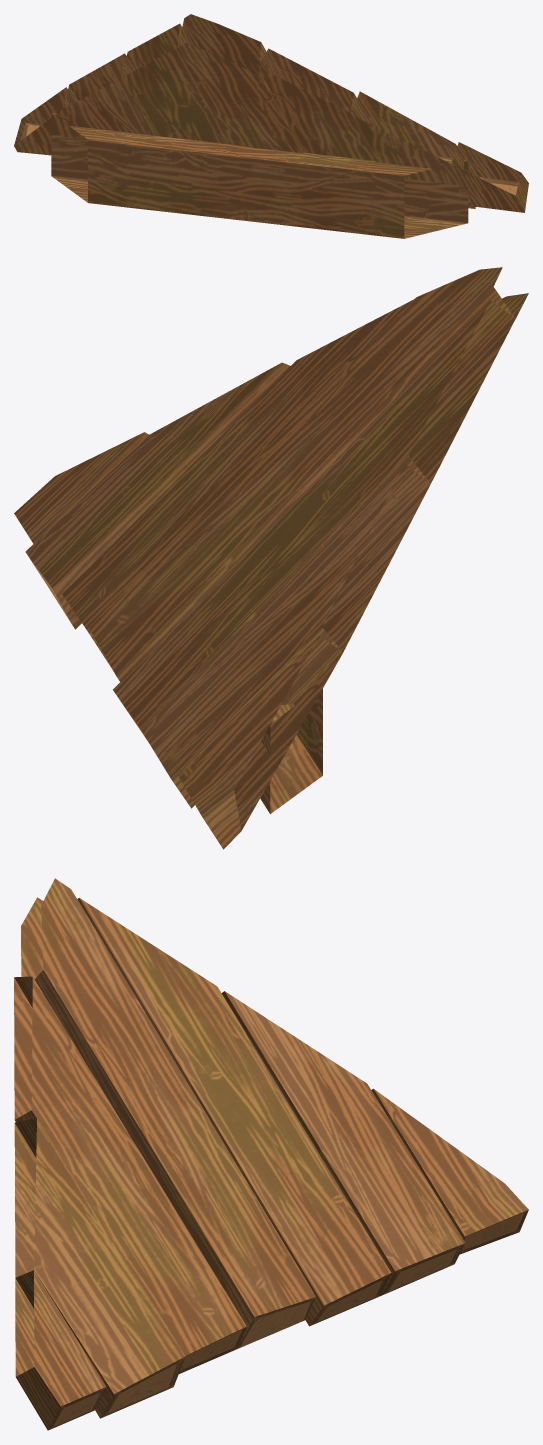
The model's file is Roof_Wooden_2x1_Corner.gltf.
The picture shows the model from 3 angles, top to bottom: view 1: azimuth 30°, elevation 25°; view 2: azimuth 150°, elevation 25°; view 3: azimuth 270°, elevation 25°; orthographic projection. The views are drawn at different scales.
Visible parts, largest first — view 1: Roof_Wooden_2x1_Corner; view 2: Roof_Wooden_2x1_Corner; view 3: Roof_Wooden_2x1_Corner.
Boxes of the visible parts, x1=… form: Roof_Wooden_2x1_Corner: x1=14, y1=14, x2=528, y2=238; Roof_Wooden_2x1_Corner: x1=14, y1=267, x2=528, y2=849; Roof_Wooden_2x1_Corner: x1=14, y1=878, x2=528, y2=1430.
Bounding box in the file's own units: 1.54 × 1.18 × 1.56.
Materials: 2 (2 with a texture image).
